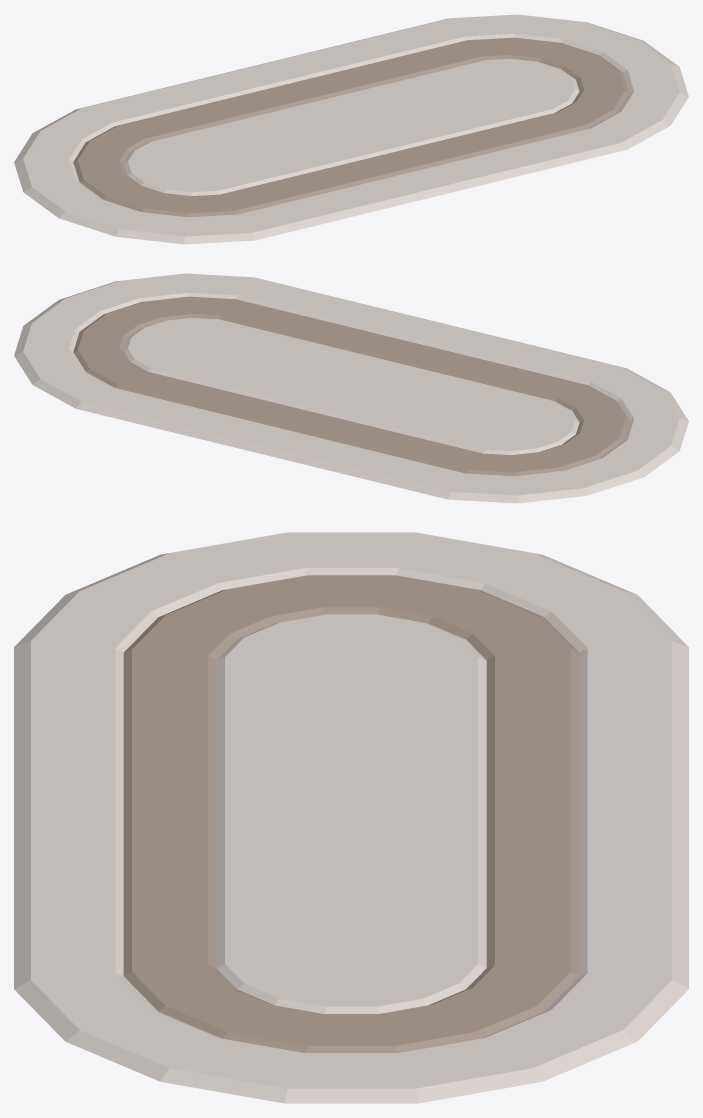
The model's file is Prop_Misc_Rug_Rounded_Ends.obj.
The picture shows the model from 3 angles, top to bottom: view 1: azimuth 30°, elevation 25°; view 2: azimuth 150°, elevation 25°; view 3: azimuth 270°, elevation 25°; orthographic projection. The views are drawn at different scales.
Visible parts, largest first — view 1: object1; view 2: object1; view 3: object1.
Boxes of the visible parts, x1,y1,x2,y2 form: object1: (14, 14, 688, 244); object1: (14, 273, 688, 503); object1: (14, 532, 688, 1103).
Size of the model in its own units: 2 by 0.0125 by 1.
